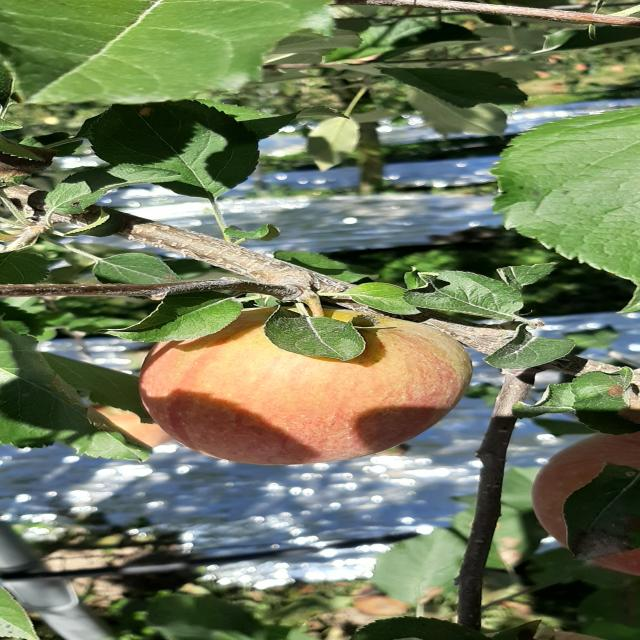fresh: (125, 292, 477, 472)
